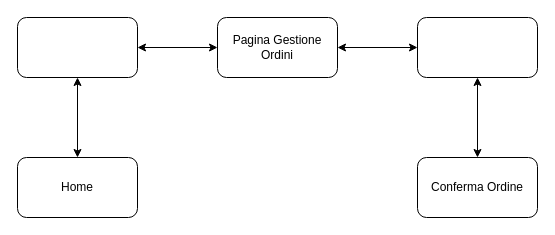
This 555x235 diagram has some shape labels left out. Each missing label, with the centre of its shape:
"Dashboard" belongs at pixel 77 47.
"Pagina Ordine" belongs at pixel 477 47.
